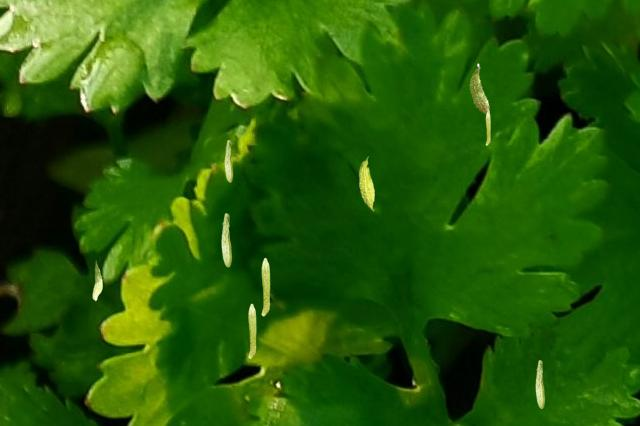ampalaya: (468, 63, 490, 114), (358, 156, 375, 211), (221, 213, 232, 267), (261, 257, 270, 316), (535, 360, 545, 409), (92, 260, 103, 301), (248, 303, 256, 359), (224, 139, 233, 182), (485, 111, 491, 145)
